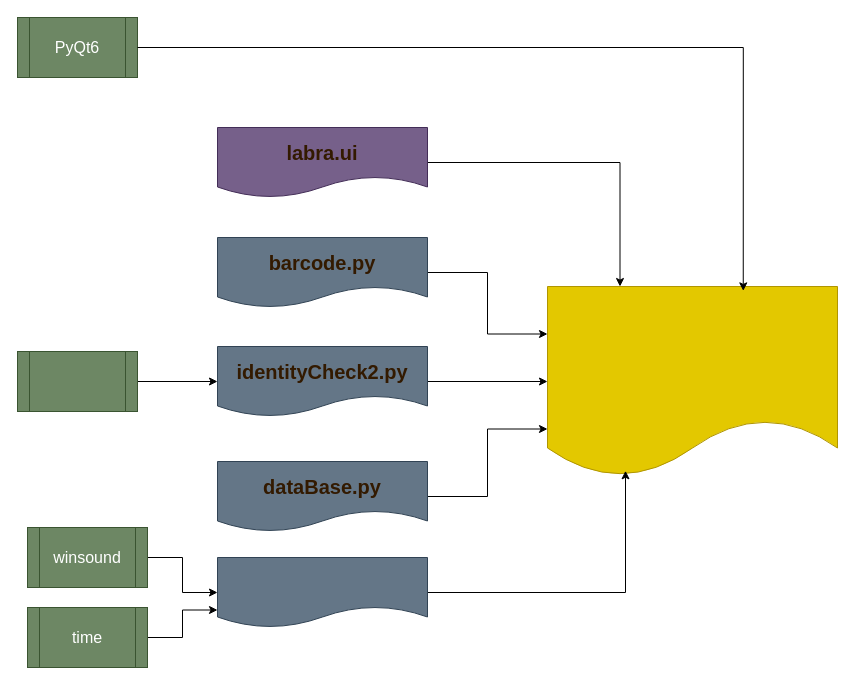
Some shapes in this 855 by 685 pixel diagram are drawn without their labels. The centre of each missing label's shape, as x and y in pixels:
datetime: the point at 77,381
main.py: the point at 692,381
sound.py: the point at 322,592
